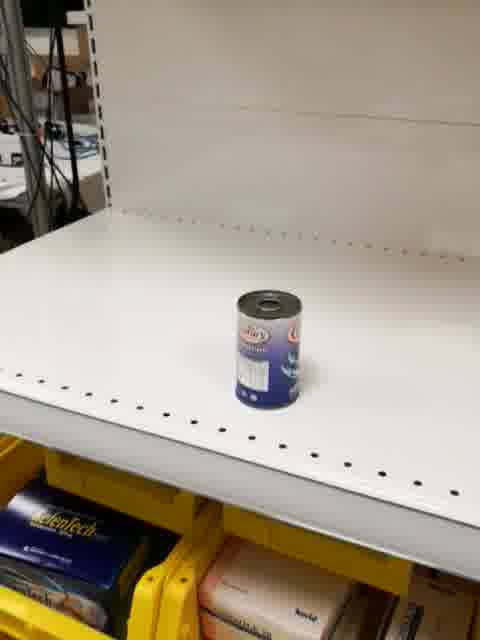sardine: (235, 288, 303, 411)
